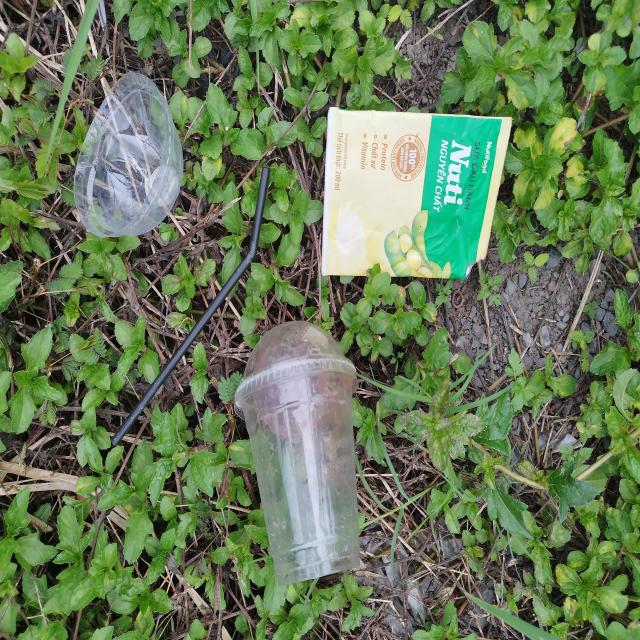drinking straw: (110, 166, 270, 447)
lid: (74, 72, 184, 237)
packet: (321, 107, 511, 279)
plastic glass: (234, 321, 360, 585)
